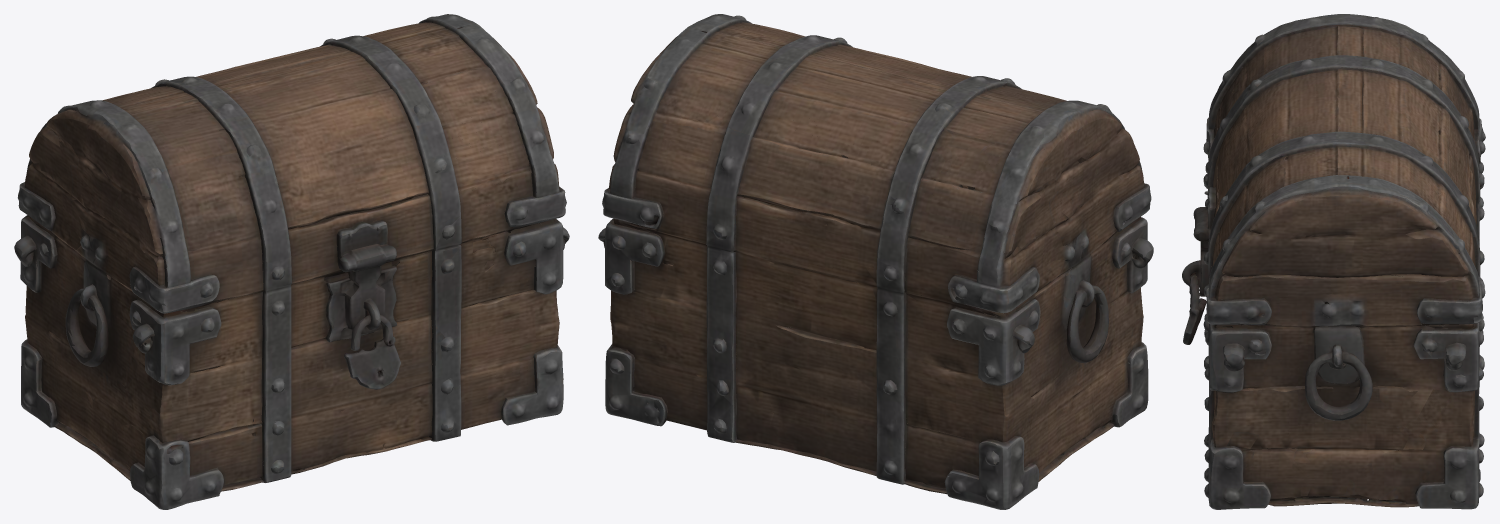
The model's file is parts.glb.
3 views of the same model, side by side, from view 1: azimuth 30°, elevation 25°; view 2: azimuth 150°, elevation 25°; view 3: azimuth 270°, elevation 25° (orthographic). The views are drawn at different scales.
Size of the model in its own units: 0.6 by 0.4544 by 0.3903.
Materials: 15 (15 with a texture image).
